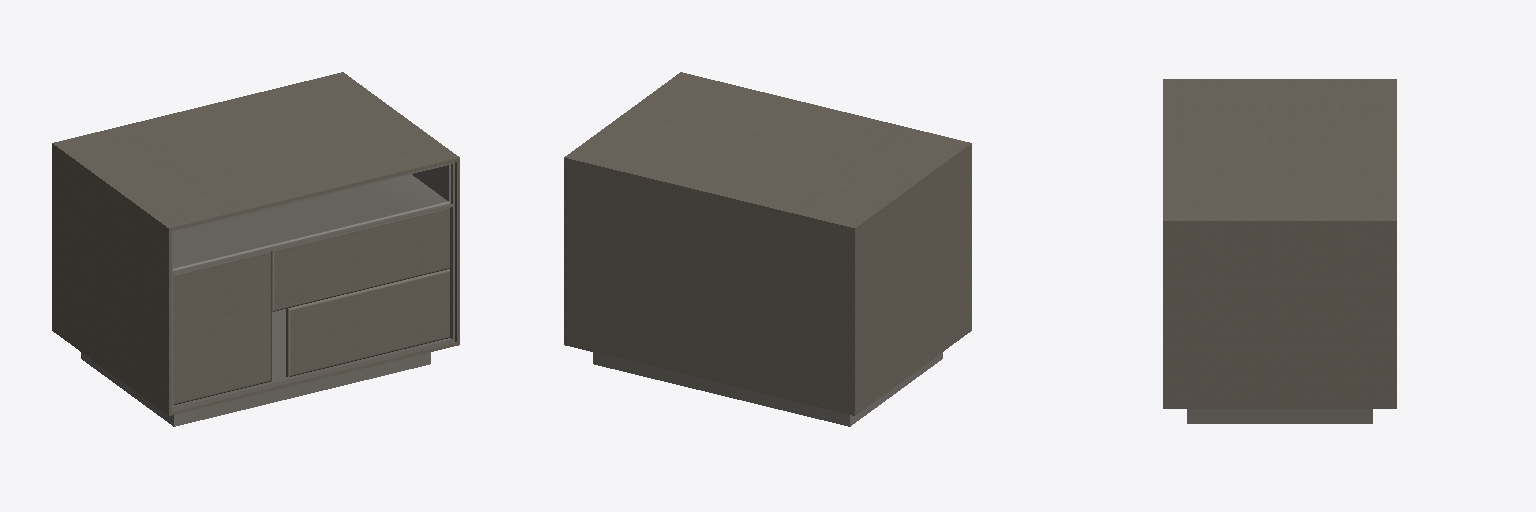
3 views of the same model, side by side, from view 1: azimuth 30°, elevation 25°; view 2: azimuth 150°, elevation 25°; view 3: azimuth 270°, elevation 25° (orthographic).
Visible parts, largest first — view 1: solid_001, solid_002; view 2: solid_001, solid_002; view 3: solid_001, solid_002.
Boxes of the visible parts, x1,y1,x2,y2 form: solid_001: [52, 72, 459, 415]; solid_002: [81, 162, 454, 426]; solid_001: [564, 72, 971, 415]; solid_002: [593, 352, 942, 426]; solid_001: [1163, 79, 1396, 408]; solid_002: [1187, 409, 1372, 423].
Bounding box in the file's own units: 0.6479 × 0.4496 × 0.45.
Materials: 1 (1 with a texture image).